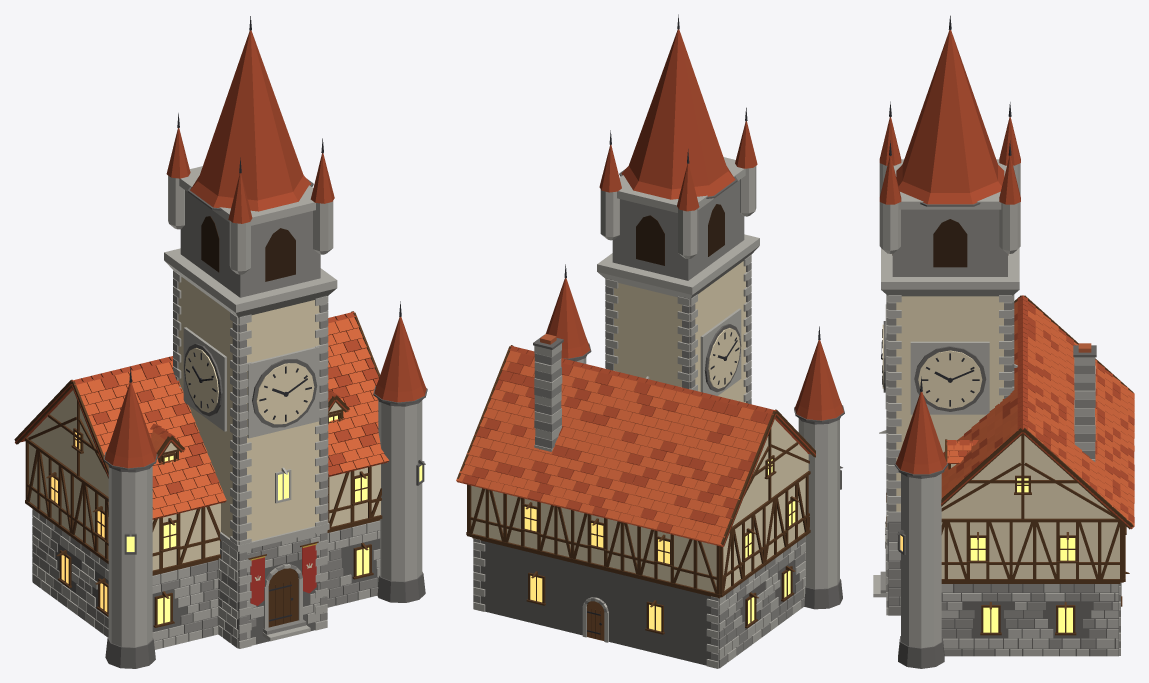
File: Landmark_ClockHouse.fbx
3 renders of one model, left to right at view 1: azimuth 30°, elevation 25°; view 2: azimuth 150°, elevation 25°; view 3: azimuth 270°, elevation 25°, orthographic. The views are drawn at different scales.
Visible parts, largest first — view 1: Landmark_ClockHouse_LOD0; view 2: Landmark_ClockHouse_LOD0; view 3: Landmark_ClockHouse_LOD0.
Part boxes in pixels (bbox=[...]): Landmark_ClockHouse_LOD0: bbox=[14, 16, 427, 668]; Landmark_ClockHouse_LOD0: bbox=[456, 14, 844, 668]; Landmark_ClockHouse_LOD0: bbox=[873, 15, 1134, 668].
Size of what is drawn, in the model's own units: 16.49 by 30 by 12.23.
